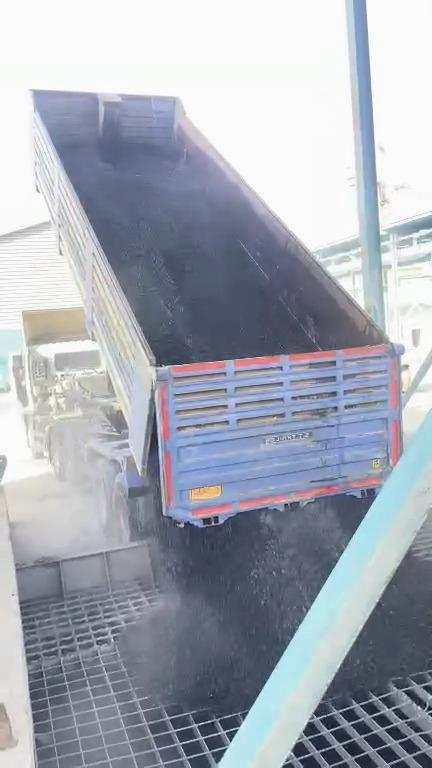gravel: (54, 144, 295, 363), (119, 497, 363, 712), (331, 555, 432, 694)
